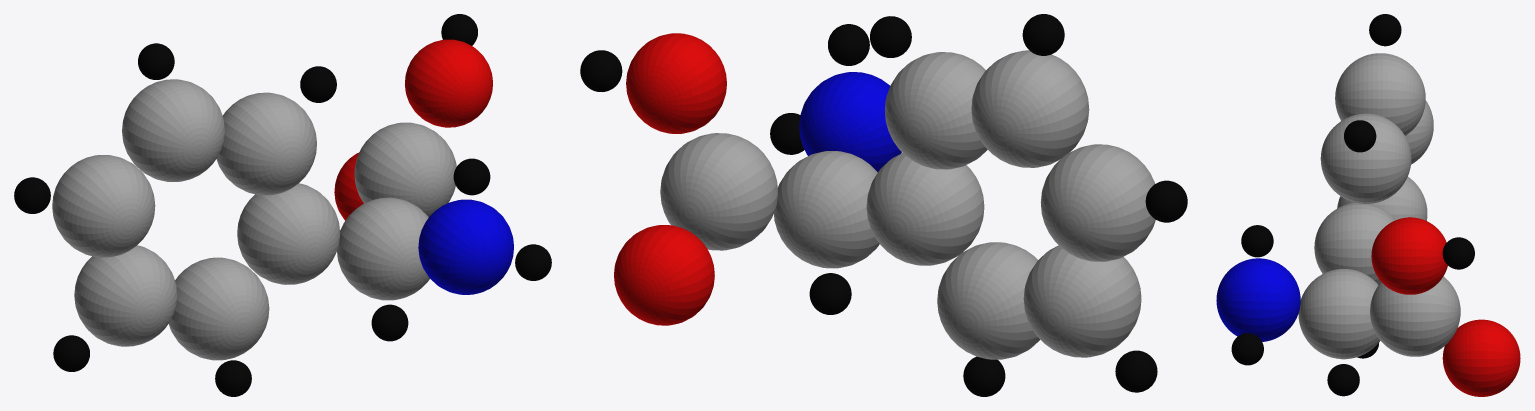
Rendered from Tyrosine.glb.
3 renders of one model, left to right at view 1: azimuth 30°, elevation 25°; view 2: azimuth 150°, elevation 25°; view 3: azimuth 270°, elevation 25°, orthographic. The views are drawn at different scales.
Parts seen in each view (by area): view 1: world; view 2: world; view 3: world.
Boxes of the visible parts, left/top/right/bottom form: world: left=14, top=14, right=551, bottom=396; world: left=580, top=14, right=1187, bottom=396; world: left=1216, top=14, right=1520, bottom=396.
Size of the model in its own units: 7.73 by 5.34 by 4.69.
